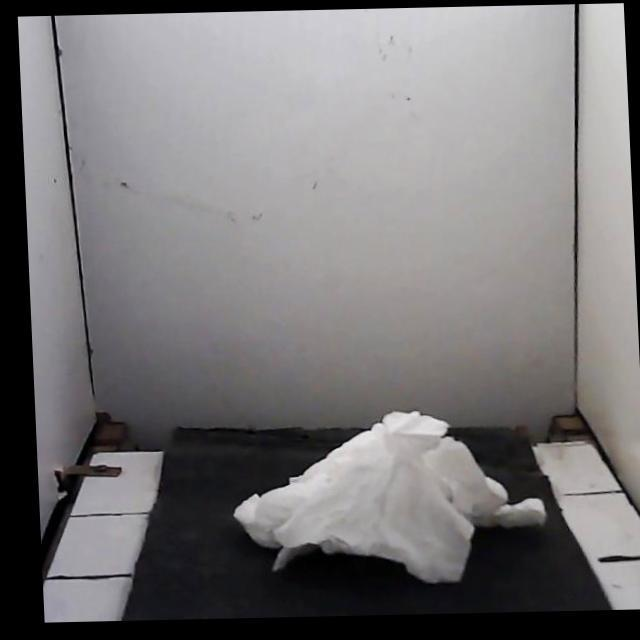papel: (234, 411, 545, 582)
